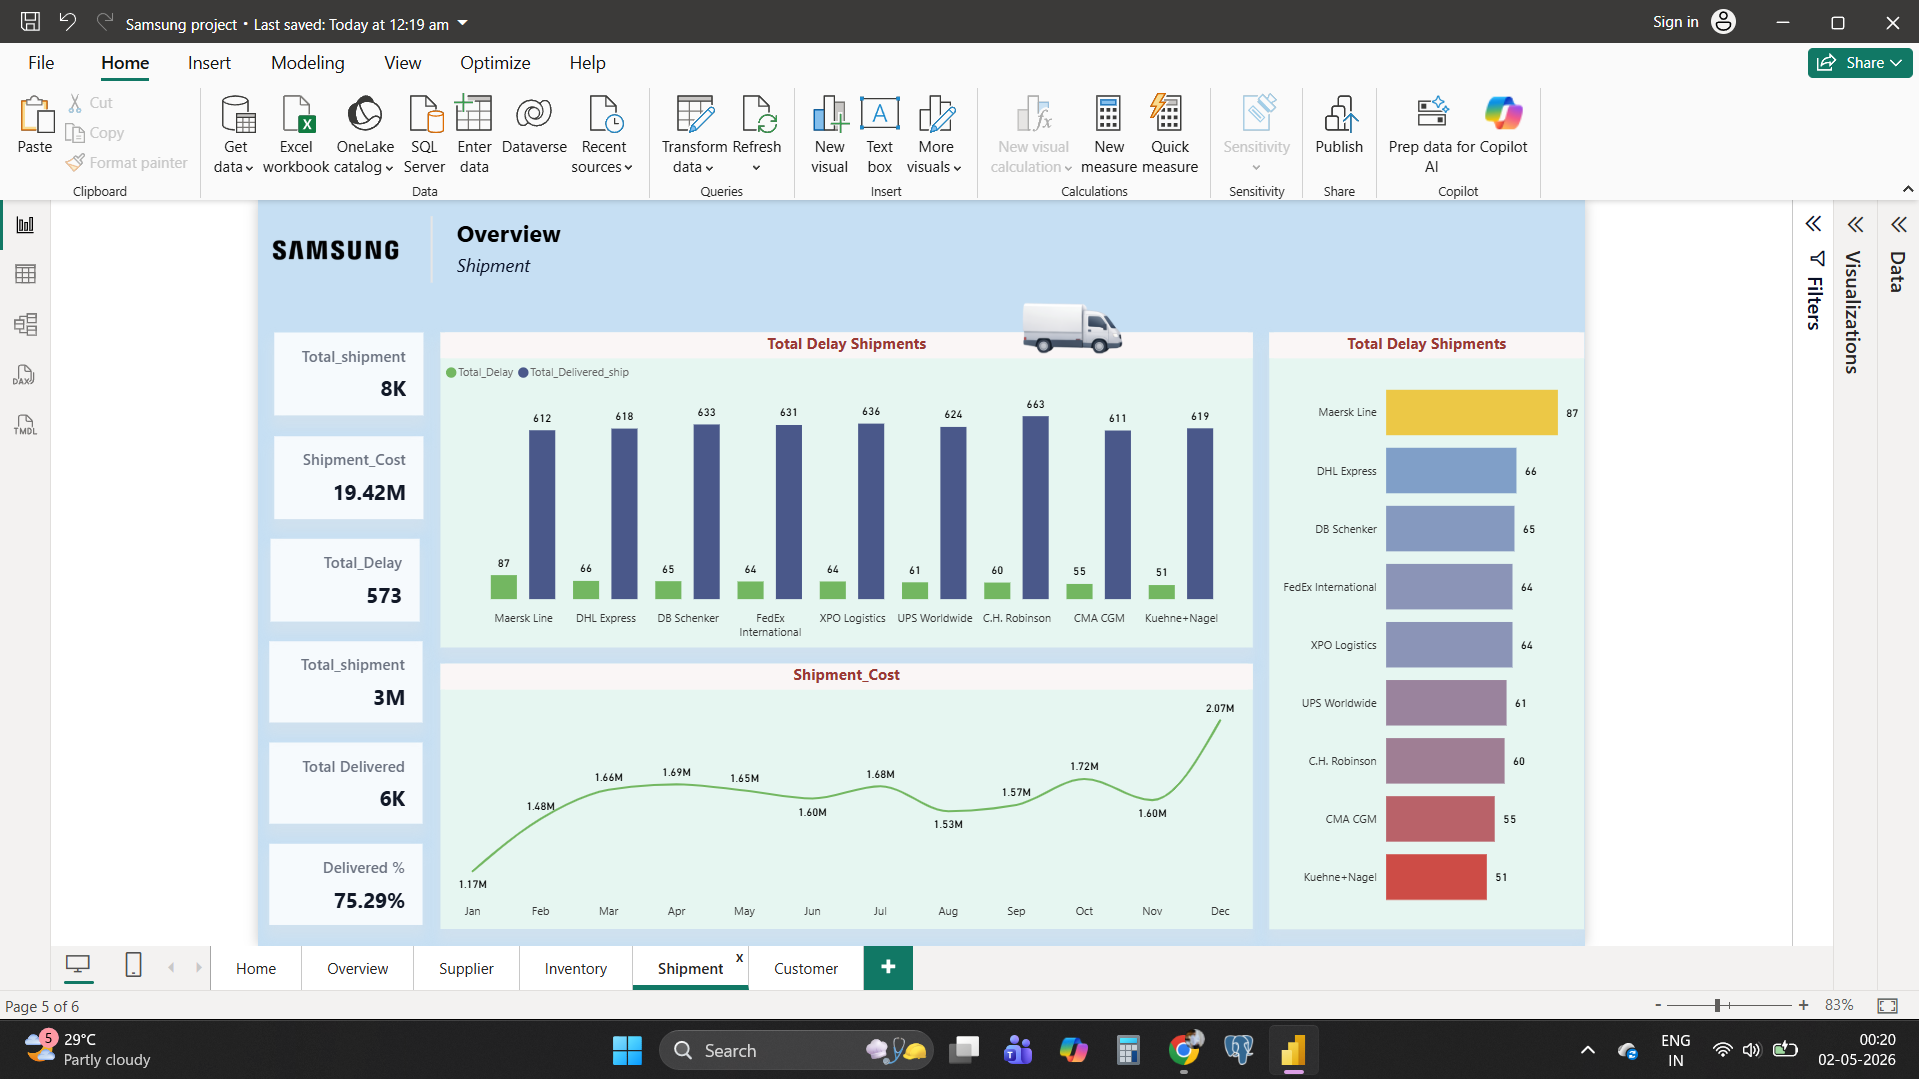

The dashboard page shown, as its layout file describes it:
{"tool":"powerbi","page":{"name":"Shipment","canvas":[1280,720],"ordinal":4},"visuals":[{"type":"shape","title":"Overview","box":[192,16,256,64],"z":0},{"type":"shape","box":[144,16,48,64],"z":1000},{"type":"image","box":[0,0,144,96],"z":2000},{"type":"cardVisual","fields":{"Data":["Measures_table.Total_Delivered_ship"]},"box":[10.5,523.9,148,78],"z":3000},{"type":"cardVisual","fields":{"Data":["Measures_table.Total_shipment_QTY"]},"box":[10.5,426.4,148,78],"z":4000},{"type":"cardVisual","fields":{"Data":["Measures_table.Delivered %"]},"box":[10.5,621.4,148,78],"z":5000},{"type":"cardVisual","fields":{"Data":["Measures_table.Total_Delay"]},"box":[12.5,327,144,80],"z":6000},{"type":"clusteredBarChart","title":"Total Delay Shipments ","fields":{"Y":["Measures_table.Total_Delay"],"Category":["fact_shipment.carrier"]},"box":[976,128,304,576],"z":7000},{"type":"clusteredColumnChart","title":"Total Delay Shipments ","fields":{"Y":["Measures_table.Total_Delay","Measures_table.Total_Delivered_ship"],"Category":["fact_shipment.carrier"]},"box":[176,128,784,304],"z":8500},{"type":"image","box":[704,80,160,80],"z":8750},{"type":"cardVisual","fields":{"Data":["Measures_table.Shipment_Cost"]},"box":[16,227.5,144,80],"z":9000},{"type":"cardVisual","fields":{"Data":["Measures_table.Total_shipment"]},"box":[16,128,144,80],"z":10000},{"type":"lineChart","title":"Shipment_Cost ","fields":{"Y":["Measures_table.Shipment_Cost"],"Category":["dim_date.Short_Month"]},"box":[176,448,784,256],"z":12000}]}

Visuals, with their boxes on the page's 1280x720 design canvas (x1, y1, x2, y2). These are canvas units, not pixel positions in the 1919x1079 screenshot, which may show the page scaled, cropped or inside an application window:
"Overview" shape: bbox=[192, 16, 448, 80]
shape: bbox=[144, 16, 192, 80]
image: bbox=[0, 0, 144, 96]
cardVisual - Measures_table.Total_Delivered_ship: bbox=[10, 524, 158, 602]
cardVisual - Measures_table.Total_shipment_QTY: bbox=[10, 426, 158, 504]
cardVisual - Measures_table.Delivered %: bbox=[10, 621, 158, 699]
cardVisual - Measures_table.Total_Delay: bbox=[12, 327, 156, 407]
"Total Delay Shipments " clusteredBarChart: bbox=[976, 128, 1280, 704]
"Total Delay Shipments " clusteredColumnChart: bbox=[176, 128, 960, 432]
image: bbox=[704, 80, 864, 160]
cardVisual - Measures_table.Shipment_Cost: bbox=[16, 228, 160, 308]
cardVisual - Measures_table.Total_shipment: bbox=[16, 128, 160, 208]
"Shipment_Cost " lineChart: bbox=[176, 448, 960, 704]
